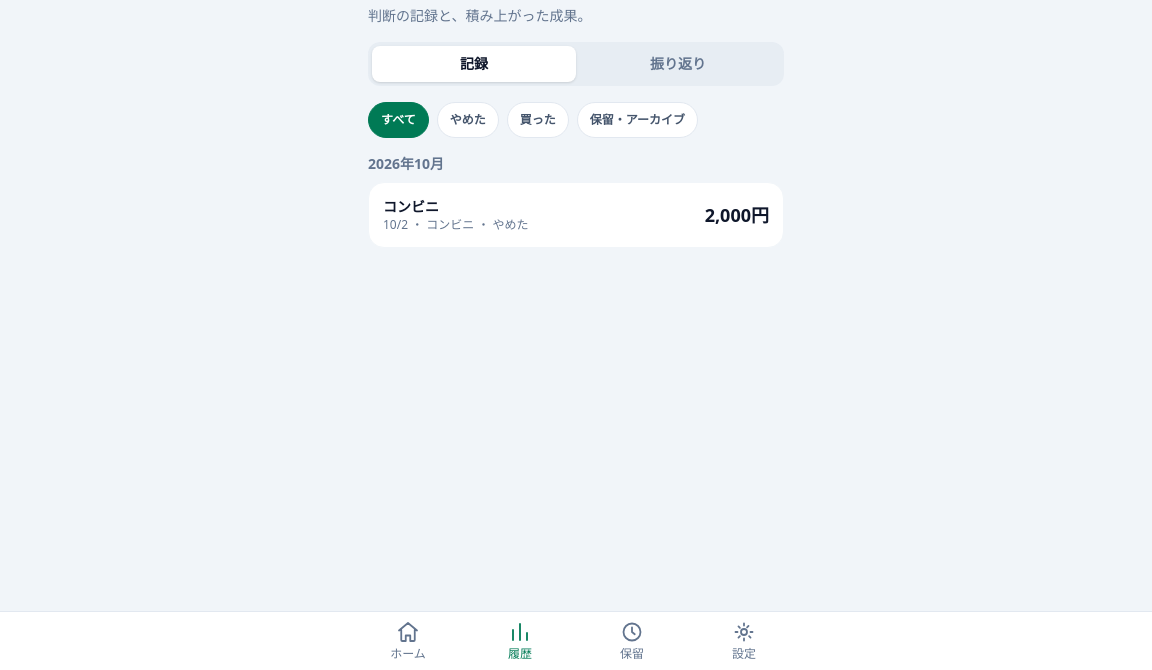
it: 振り返りタブ: 価値尺度・目標への到達度 › 価値尺度への到達度が表示される
Click the tab "振り返り" at x=678, y=64, box x1=576 y1=46 x2=780 y2=82
(page scrolled)
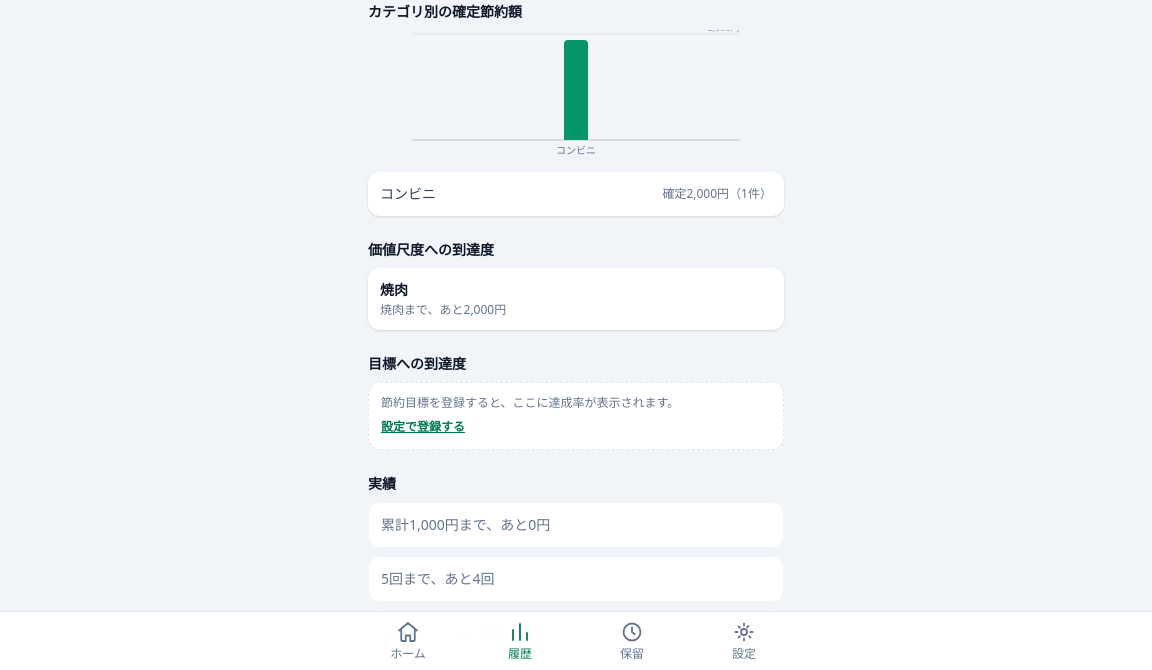
Expected: the text "焼肉まで、あと2,000円" is shown, x1=380 y1=301 x2=506 y2=318
